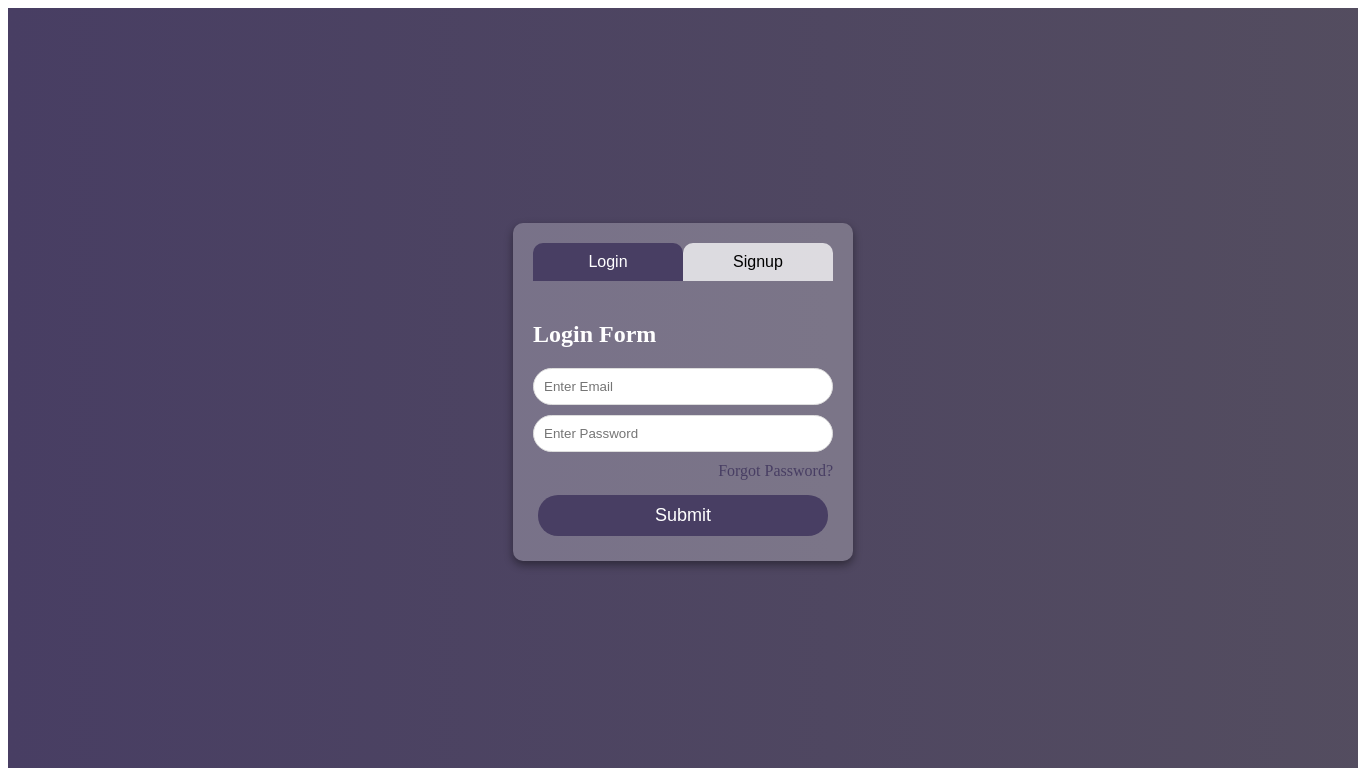
Test: AuthorizationForm Component › handles forgot password flow
This screenshot has width=1366, height=768.
Click the link "Forgot Password?" at x=776, y=470, box [718,462,833,479]
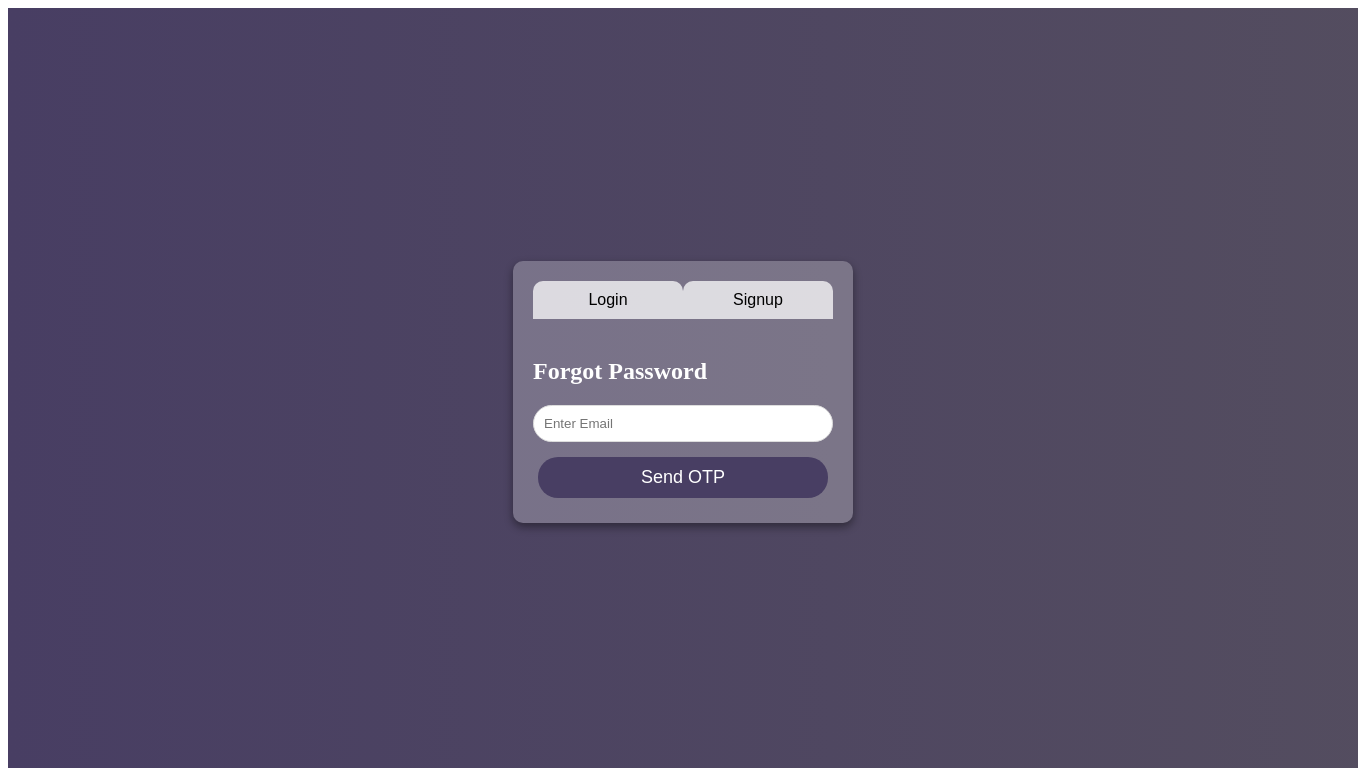
Type "test@example.com" into the field with placeholder "Enter Email" at x=683, y=424, box [533,406,833,442]
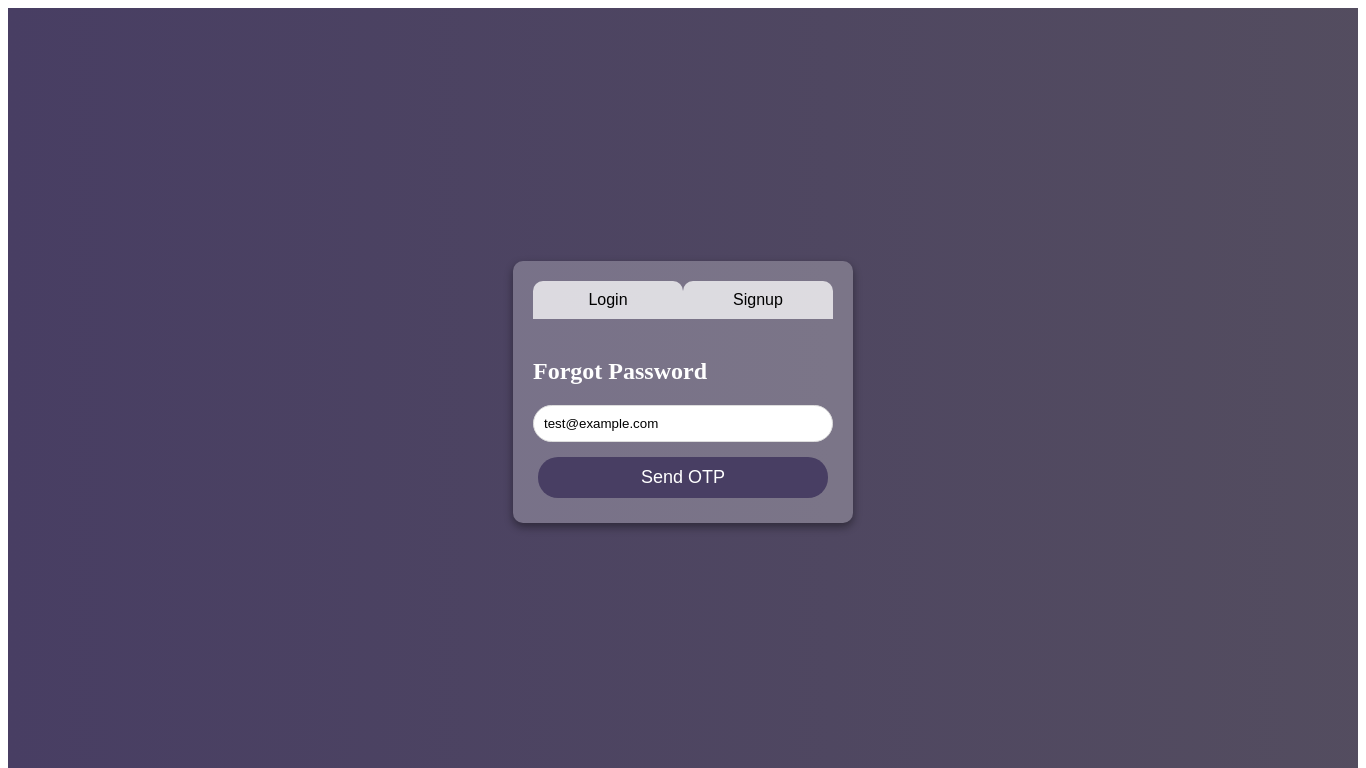
Click the button "Send OTP" at x=683, y=478, box [538,458,828,498]
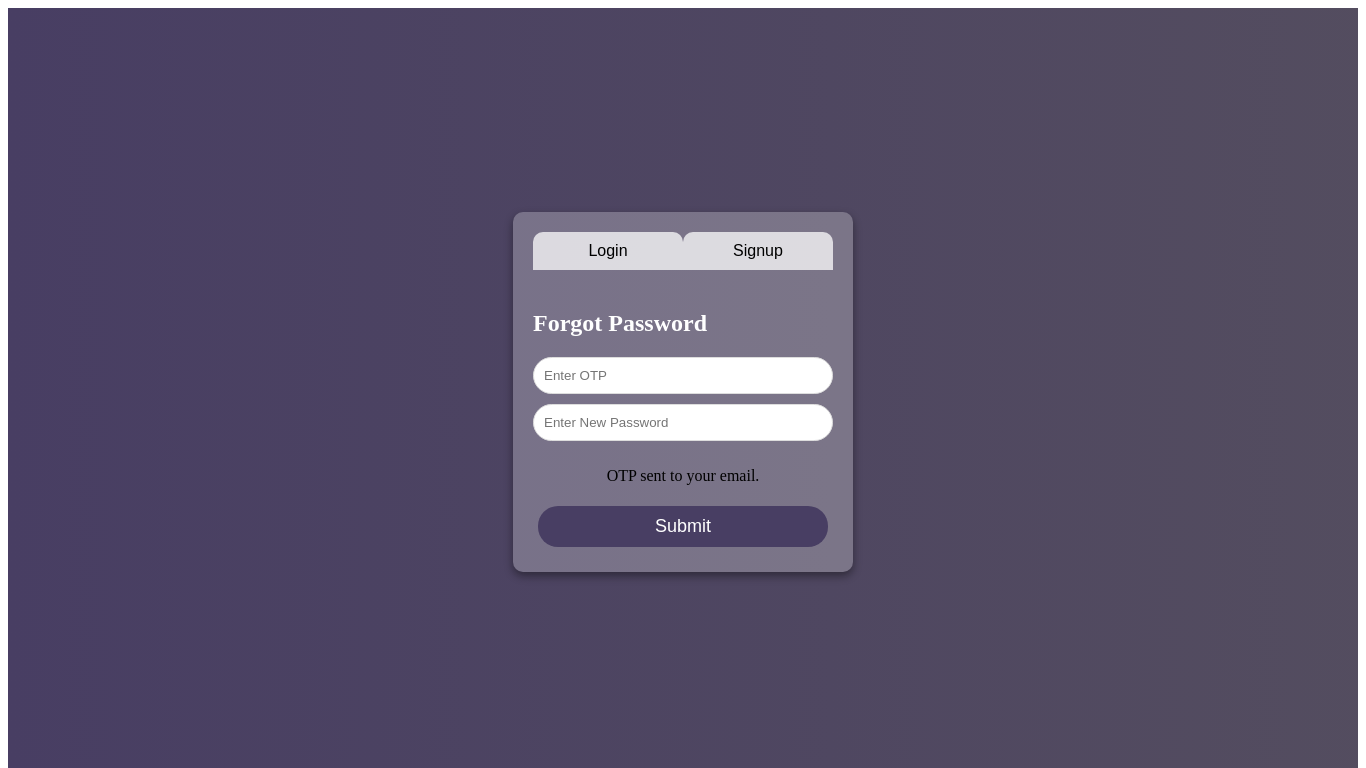
Result: the text "OTP sent to your email." is shown at [607,467,759,484]
